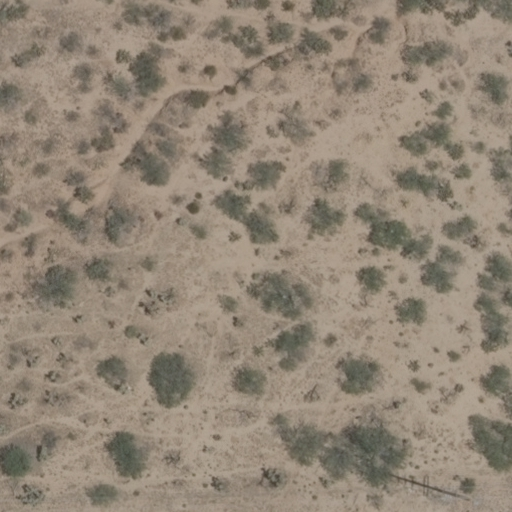DT: (392, 475, 466, 496)
